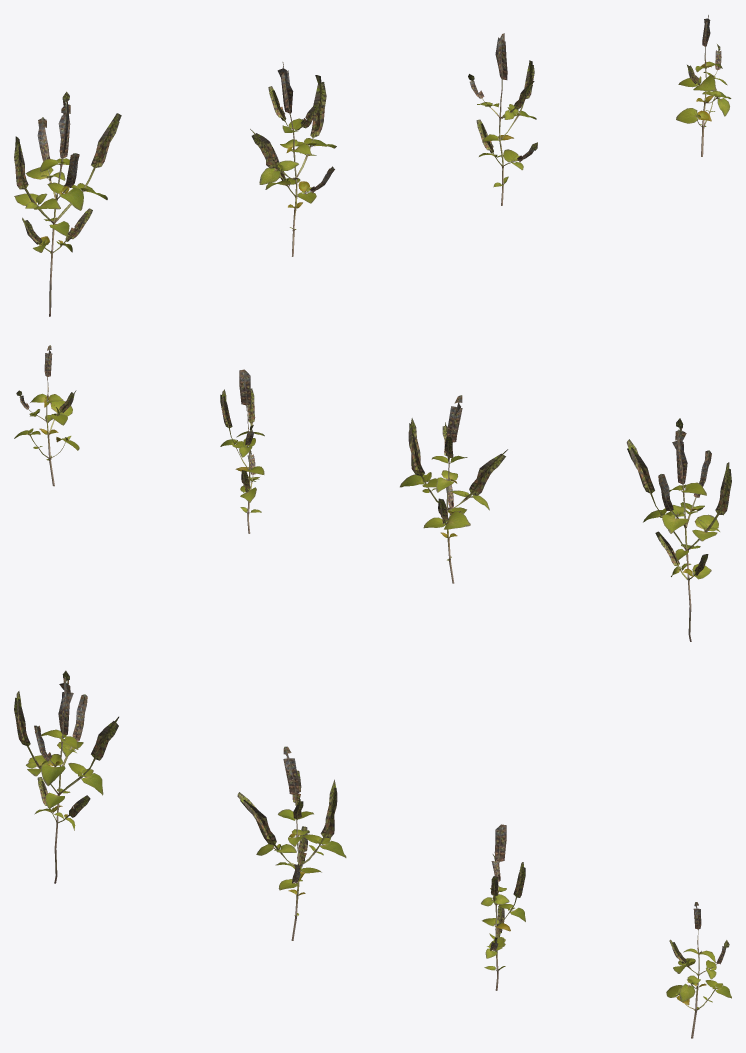
Rendered from shrub_03.glb.
3 views of the same model, one above another, from view 1: azimuth 30°, elevation 25°; view 2: azimuth 150°, elevation 25°; view 3: azimuth 330°, elevation 25° (orthographic). The views are drawn at different scales.
Visible parts, largest first — view 1: shrub_03_a, shrub_03_b, shrub_03_c, shrub_03_d; view 2: shrub_03_a, shrub_03_b, shrub_03_c, shrub_03_d; view 3: shrub_03_a, shrub_03_b, shrub_03_c, shrub_03_d.
Boxes of the visible parts, left/top/right/bottom form: shrub_03_a: left=14, top=91, right=121, bottom=316; shrub_03_b: left=250, top=62, right=336, bottom=256; shrub_03_c: left=468, top=33, right=537, bottom=205; shrub_03_d: left=676, top=15, right=731, bottom=156; shrub_03_a: left=626, top=418, right=731, bottom=641; shrub_03_b: left=400, top=395, right=507, bottom=583; shrub_03_c: left=220, top=369, right=264, bottom=533; shrub_03_d: left=14, top=345, right=79, bottom=486; shrub_03_a: left=14, top=670, right=118, bottom=883; shrub_03_b: left=237, top=746, right=346, bottom=940; shrub_03_c: left=481, top=824, right=525, bottom=990; shrub_03_d: left=666, top=902, right=731, bottom=1038.
Bounding box in the file's own units: 1.37 × 0.4028 × 0.1512.
1 material, 1 textured.
